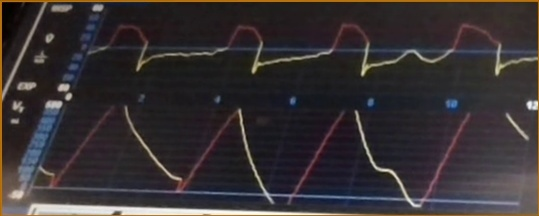Ineffective_effort Flow: (90, 18, 538, 88)
Ineffective_effort Volume: (41, 106, 528, 207)
